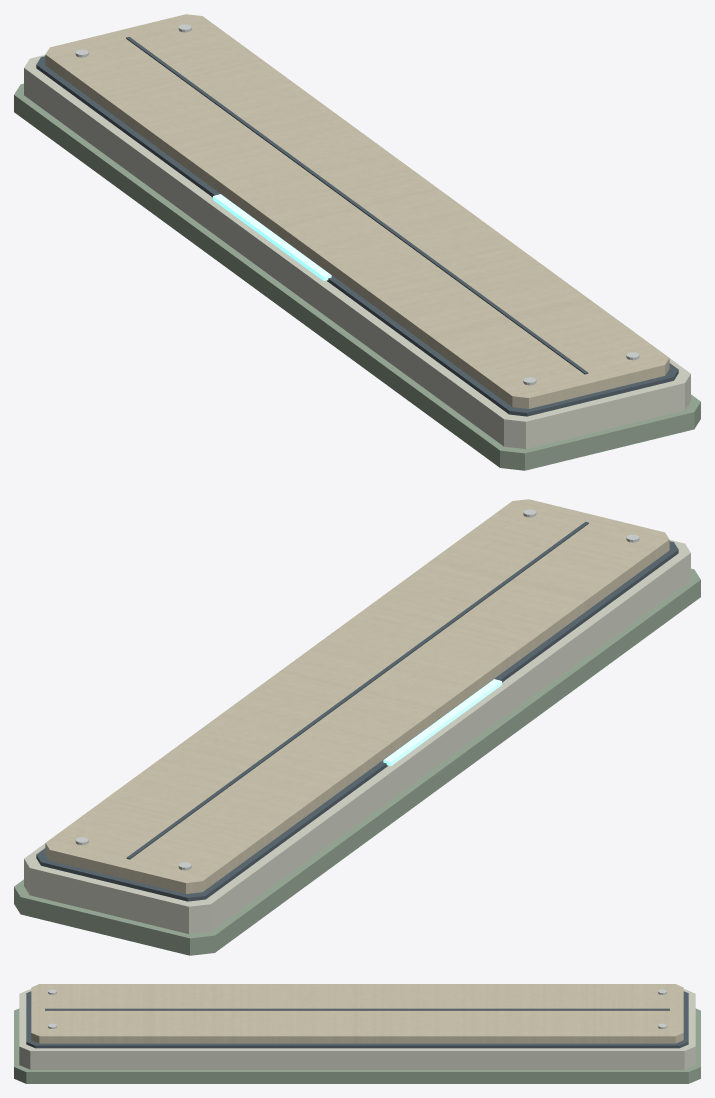
Rendered from m01-metal-edge-west.glb.
3 renders of one model, top to bottom at view 1: azimuth 30°, elevation 25°; view 2: azimuth 150°, elevation 25°; view 3: azimuth 270°, elevation 25°, orthographic. The views are drawn at different scales.
Visible parts, largest first — view 1: edge-west/003, edge-west/001, edge-west/000, edge-west/002, edge-west/004, edge-west/009; view 2: edge-west/003, edge-west/001, edge-west/000, edge-west/002, edge-west/004, edge-west/009; view 3: edge-west/003, edge-west/001, edge-west/000, edge-west/002, edge-west/004.
Part boxes in pixels (x1,y1,x2,y2): edge-west/003: (45, 14, 669, 408); edge-west/001: (24, 55, 690, 448); edge-west/000: (14, 83, 700, 470); edge-west/002: (36, 56, 678, 416); edge-west/004: (126, 37, 588, 374); edge-west/009: (213, 194, 331, 280); edge-west/003: (45, 499, 669, 893); edge-west/001: (24, 540, 690, 933); edge-west/000: (14, 568, 700, 955); edge-west/002: (36, 541, 678, 901); edge-west/004: (126, 522, 588, 859); edge-west/009: (383, 679, 501, 765); edge-west/003: (31, 984, 683, 1043); edge-west/001: (19, 989, 695, 1069); edge-west/000: (14, 1008, 700, 1083); edge-west/002: (26, 991, 688, 1048); edge-west/004: (45, 1008, 669, 1010).
Size of the model in its own units: 0.23 by 0.0678 by 1.
6 materials, 1 textured.
